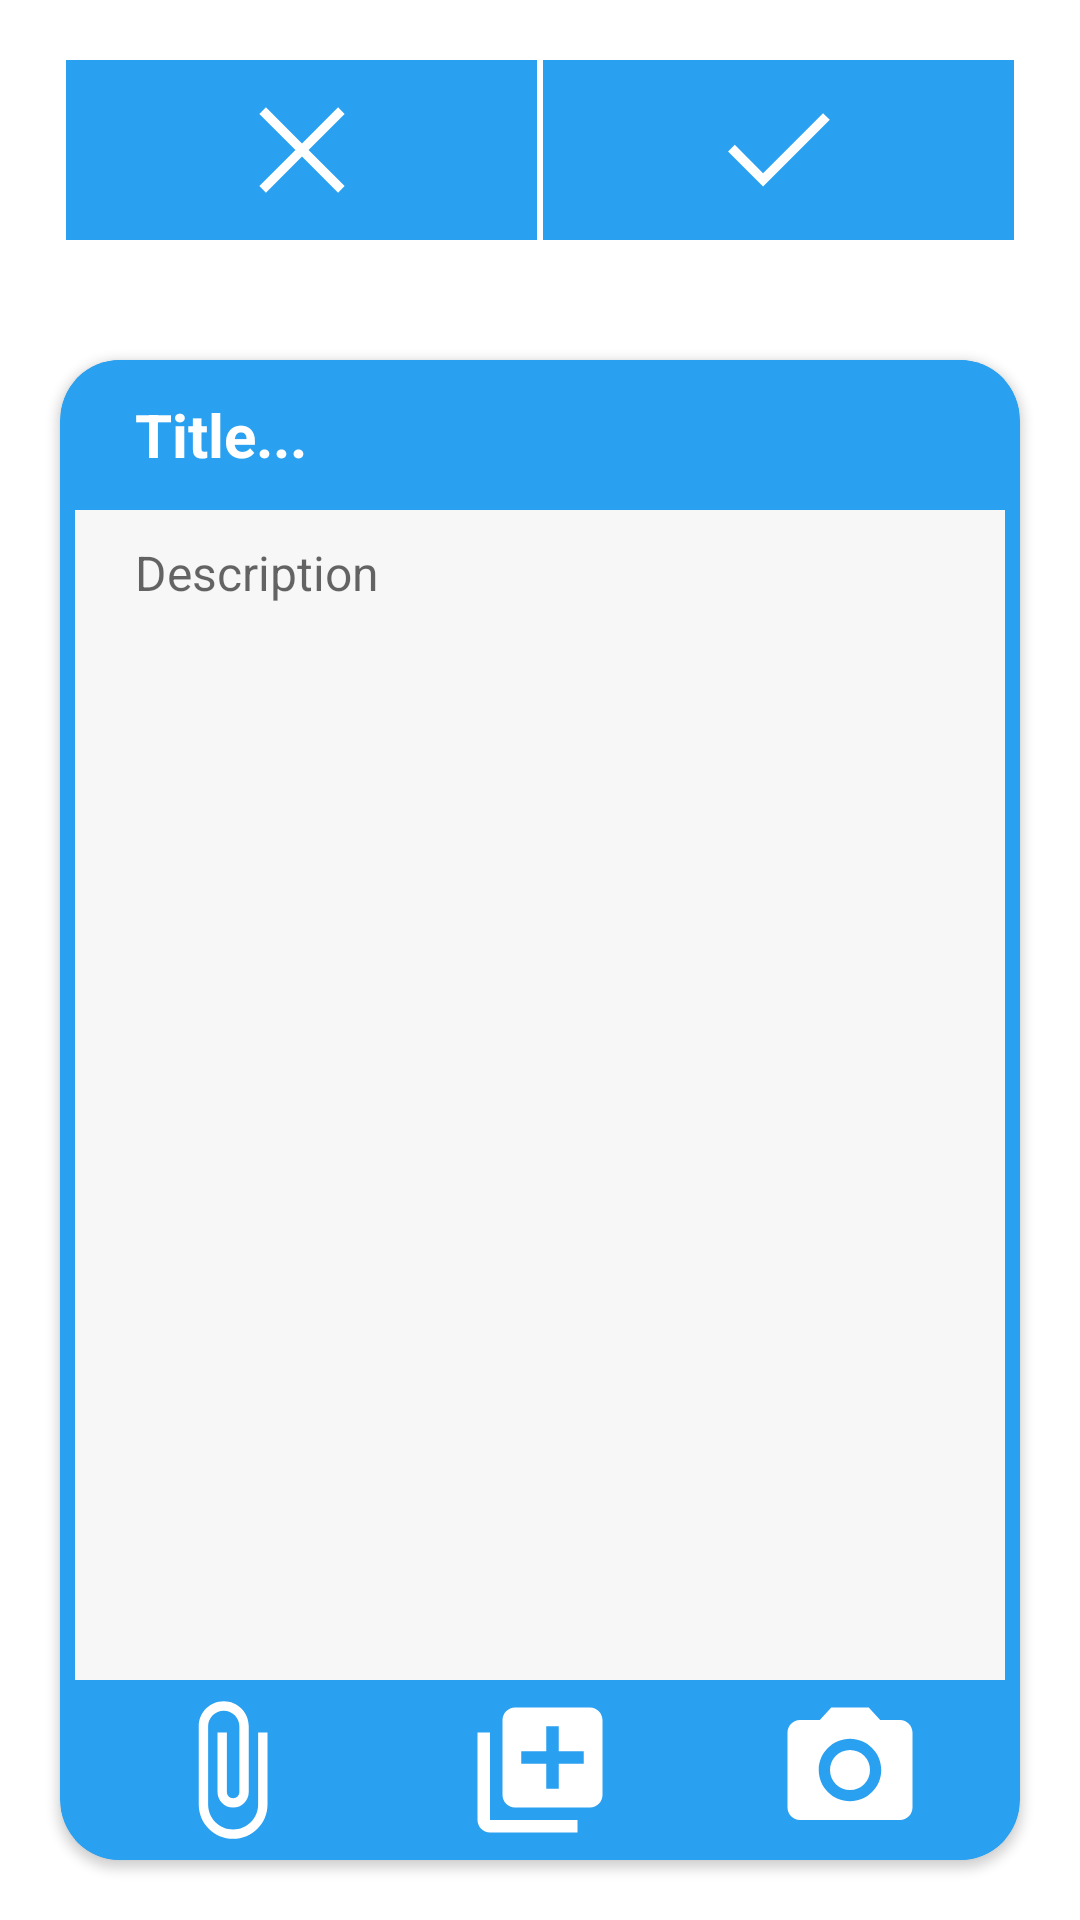

Icon bounding boxes for this 1080px×1920px phone screenshot, format [left=x1, top=y1, right=x2, bottom=y2]:
attach: [left=198, top=1701, right=268, bottom=1839]
camera: [left=787, top=1707, right=913, bottom=1820]
photos: [left=477, top=1707, right=603, bottom=1833]
